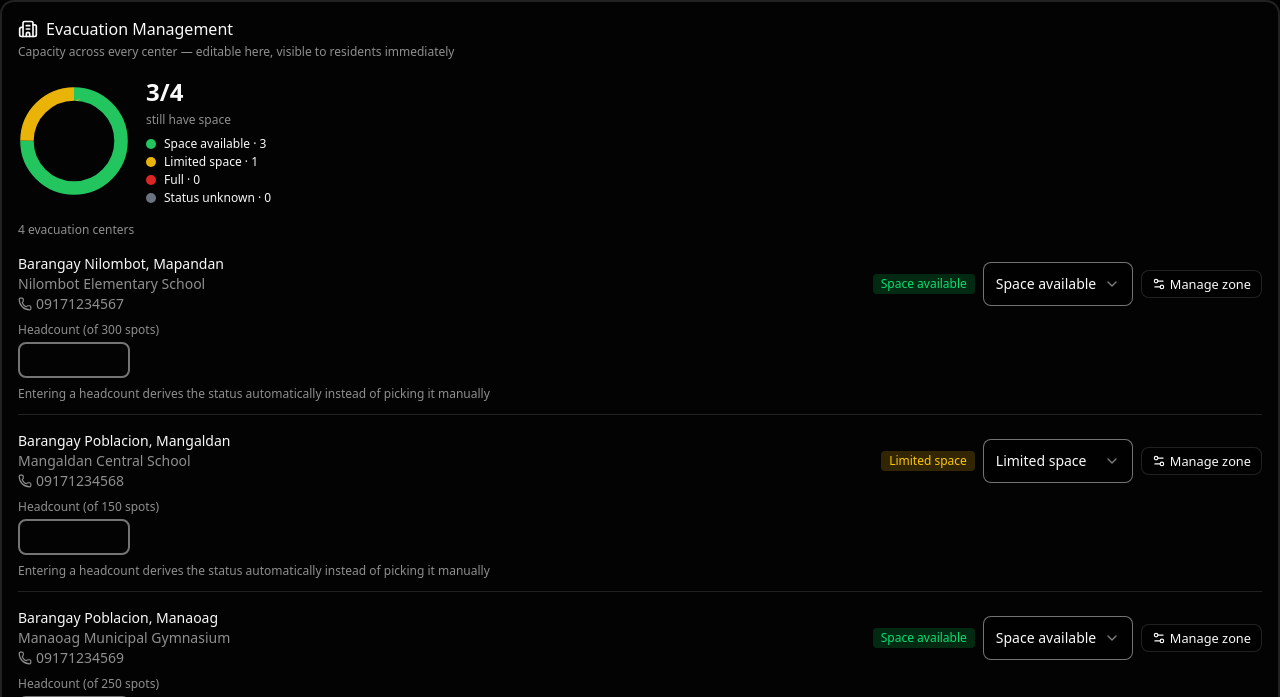
Test: EvacuationManagementPanel › tells the admin when a capacity write fails
The image size is (1280, 697).
Click the dropdown labelled "Space available" in the row of "Barangay Nilombot, Mapandan" at [1058, 284], box [983,262,1133,306]
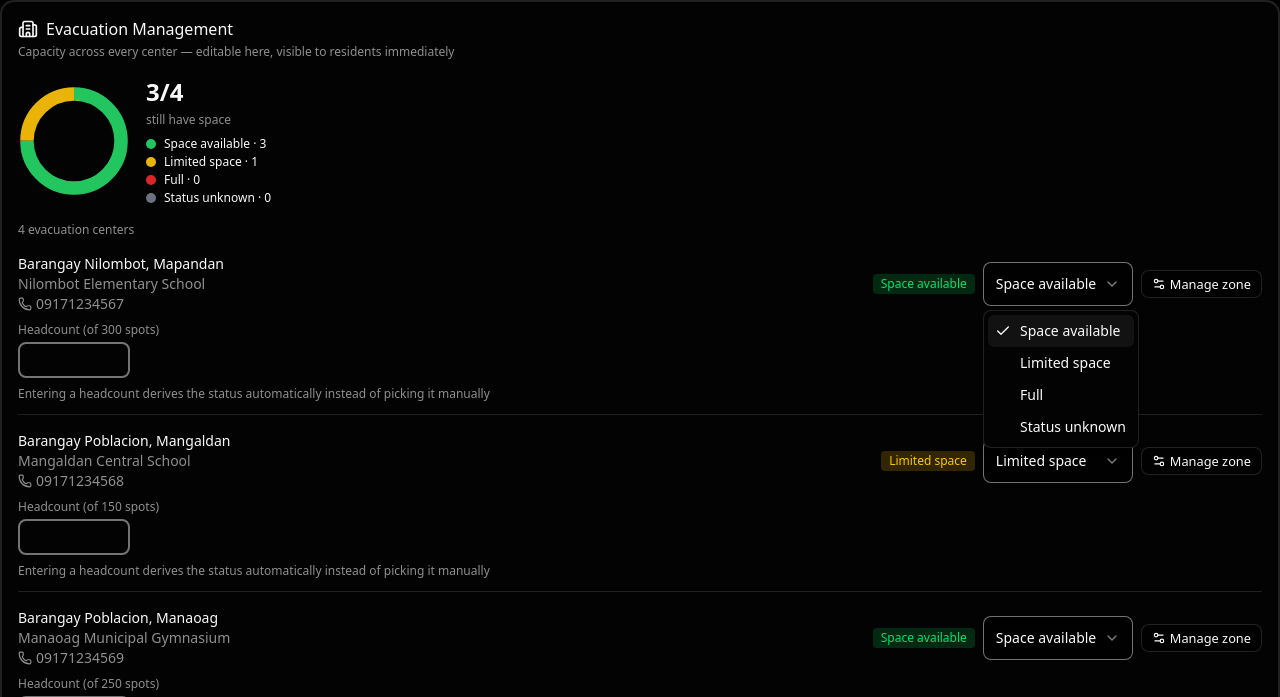
Click the option "Full" at [1032, 394], box [1020,385,1043,404]
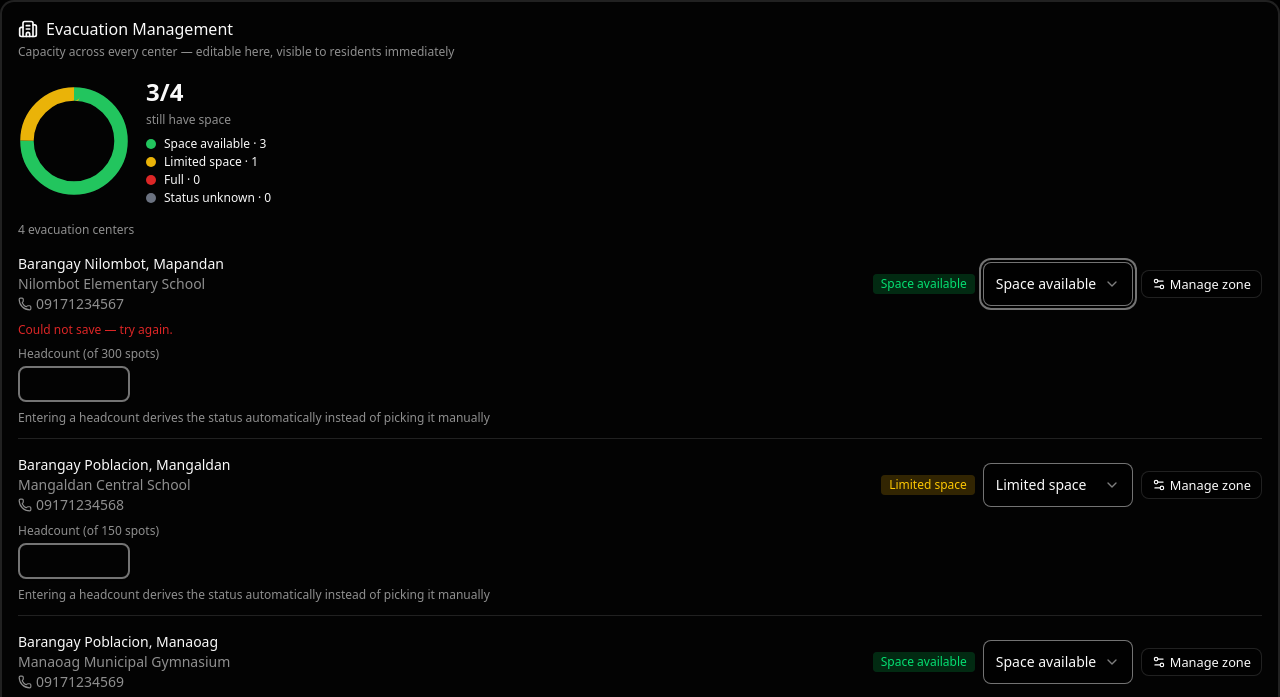
Result: the text "Could not save — try again." is shown at [18,321,173,338]
